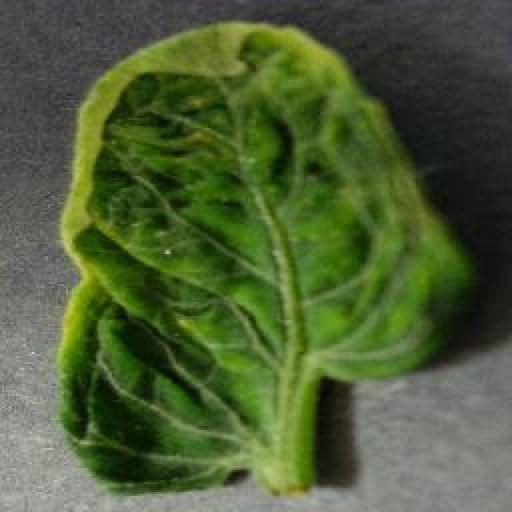Yellow Leaf Curl Virus: (53, 18, 472, 498)
